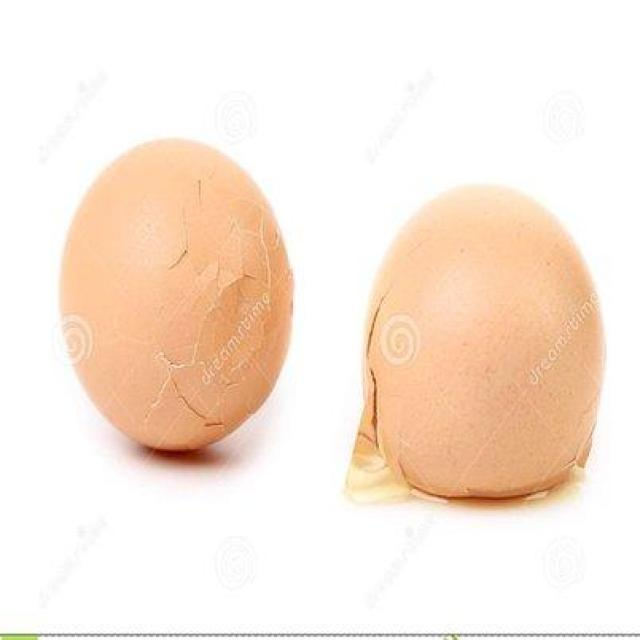organic: (51, 137, 298, 459), (360, 183, 608, 503)
